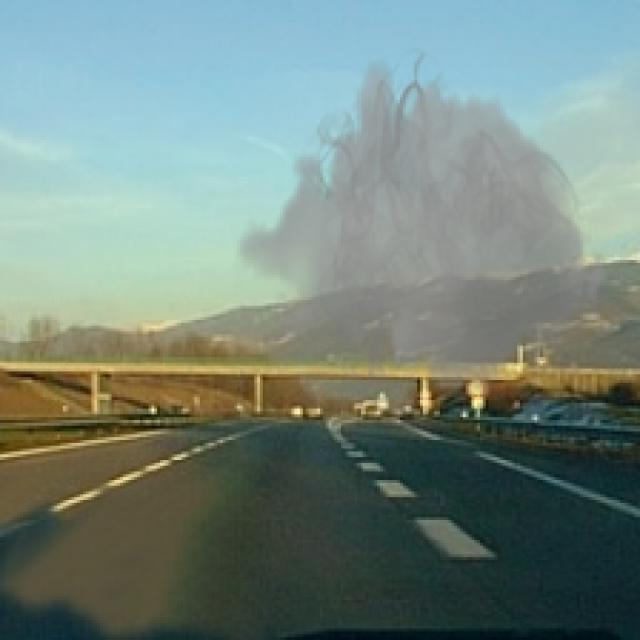smoke: (234, 46, 612, 431)
